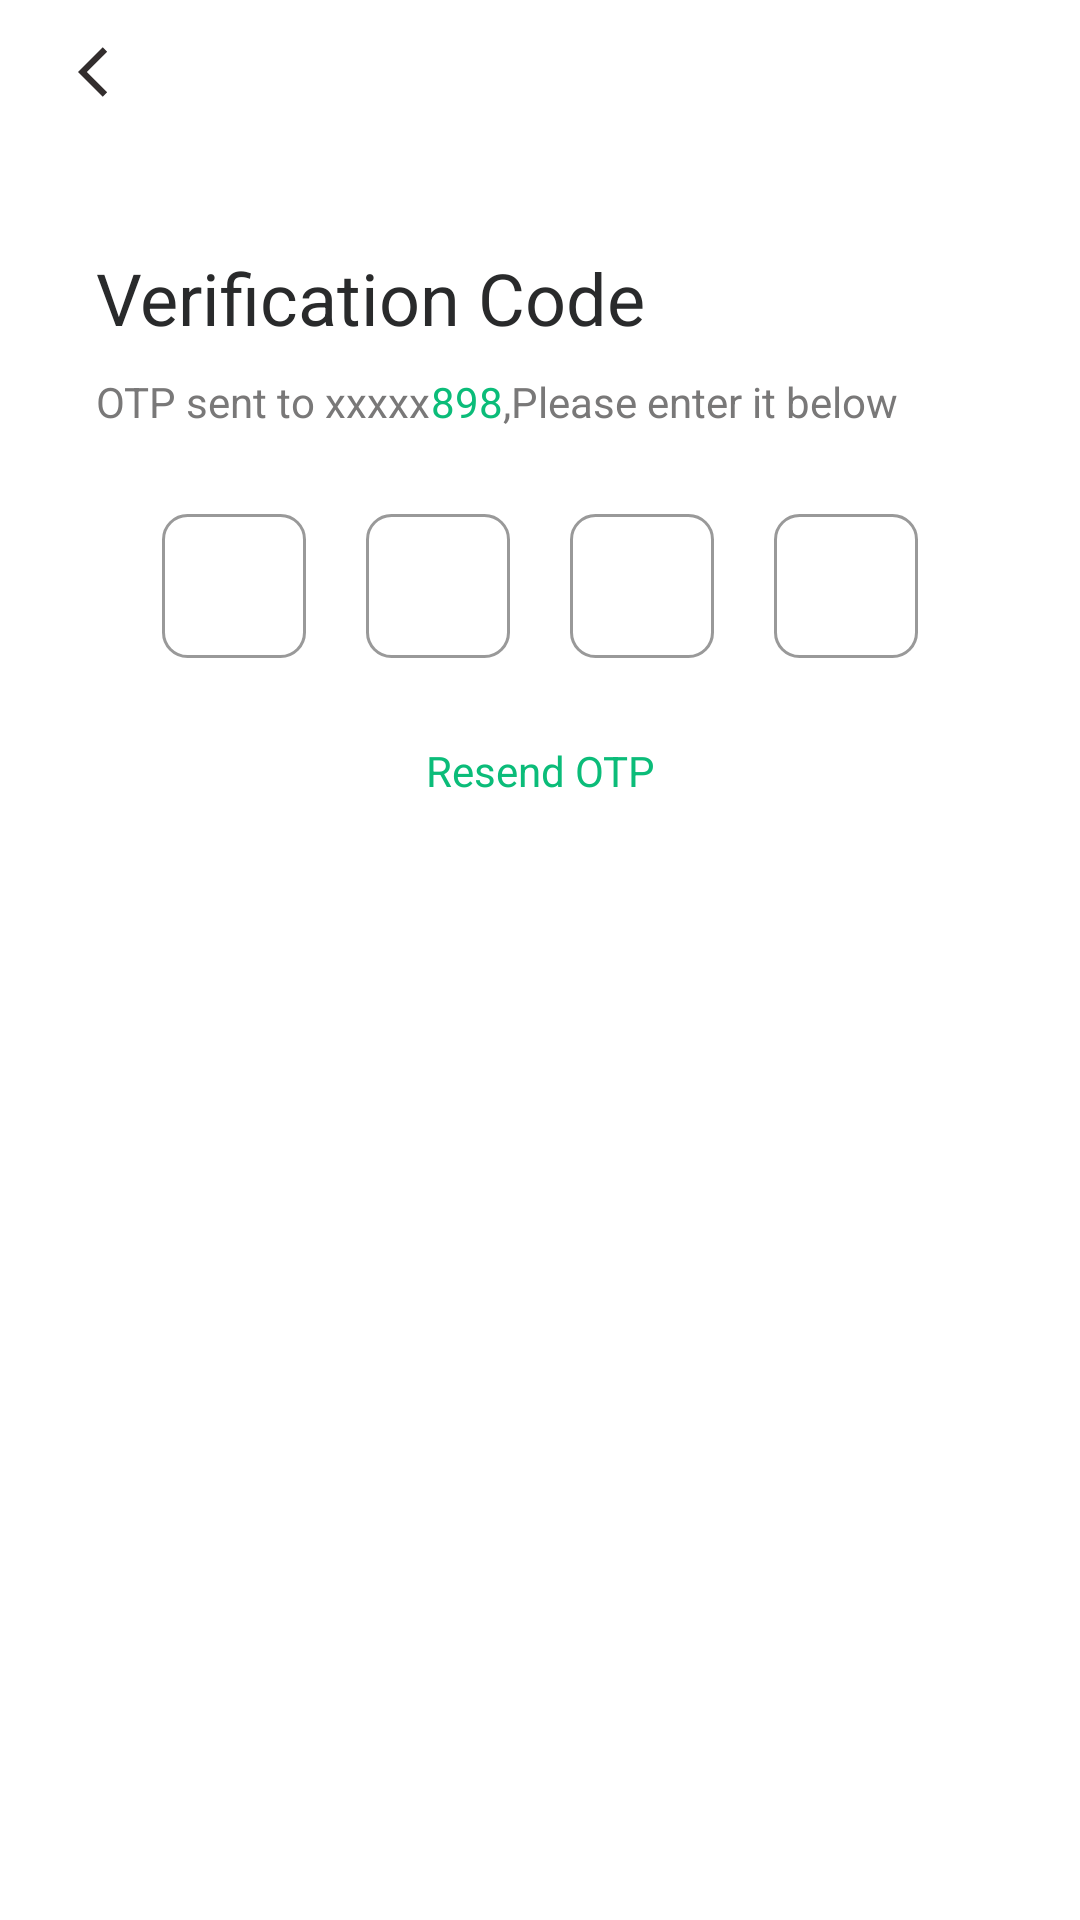

Locate icon controls on the screen. Image size 1080*1920, boxes as (x1, y1, x2, y2).
back: (78, 47, 107, 97)
